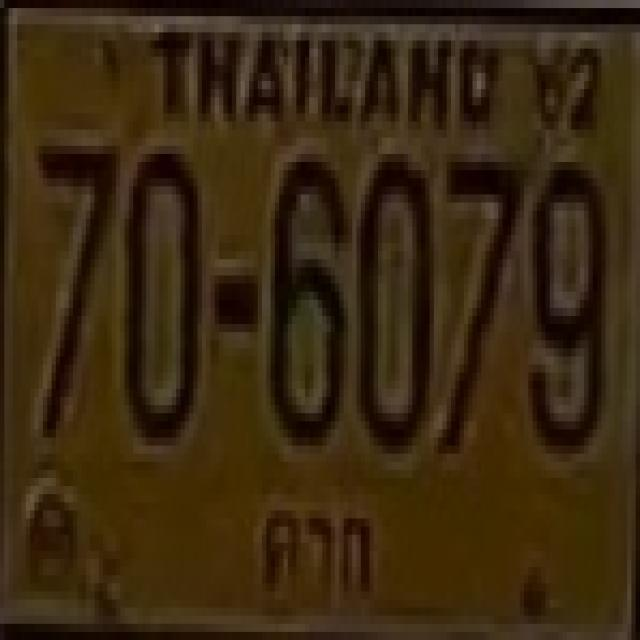0: (120, 146, 198, 437), (356, 150, 429, 441)
6: (266, 154, 344, 437)
7: (438, 154, 520, 445), (36, 138, 114, 429)
9: (526, 154, 604, 445)
TAK: (252, 493, 373, 601)
